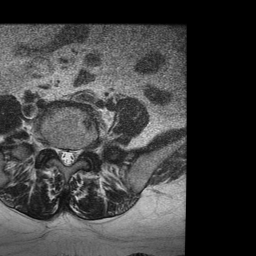CCS_normal: (64, 142, 70, 170)
LFS_severe_stenosis: (79, 143, 87, 161)
LLS_normal: (71, 144, 79, 165)
RFS_severe_stenosis: (48, 138, 56, 155)
RLS_normal: (56, 143, 64, 164)
